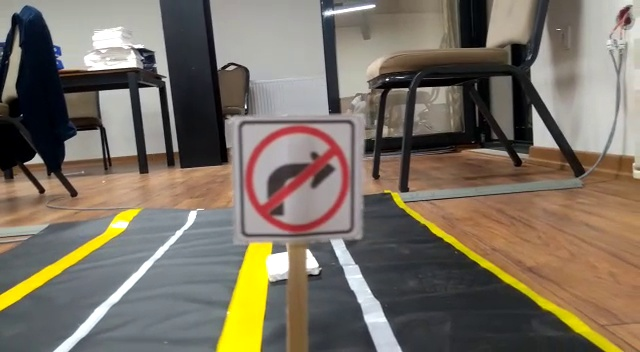saga_donulmez: (235, 119, 355, 239)
